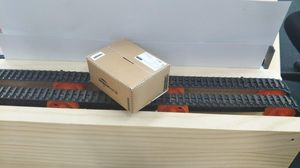box1: (85, 37, 171, 113)
